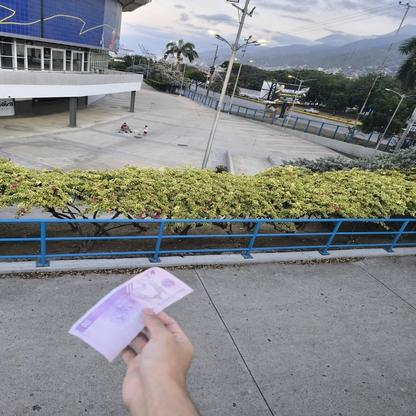vef_back: (67, 266, 194, 363)
